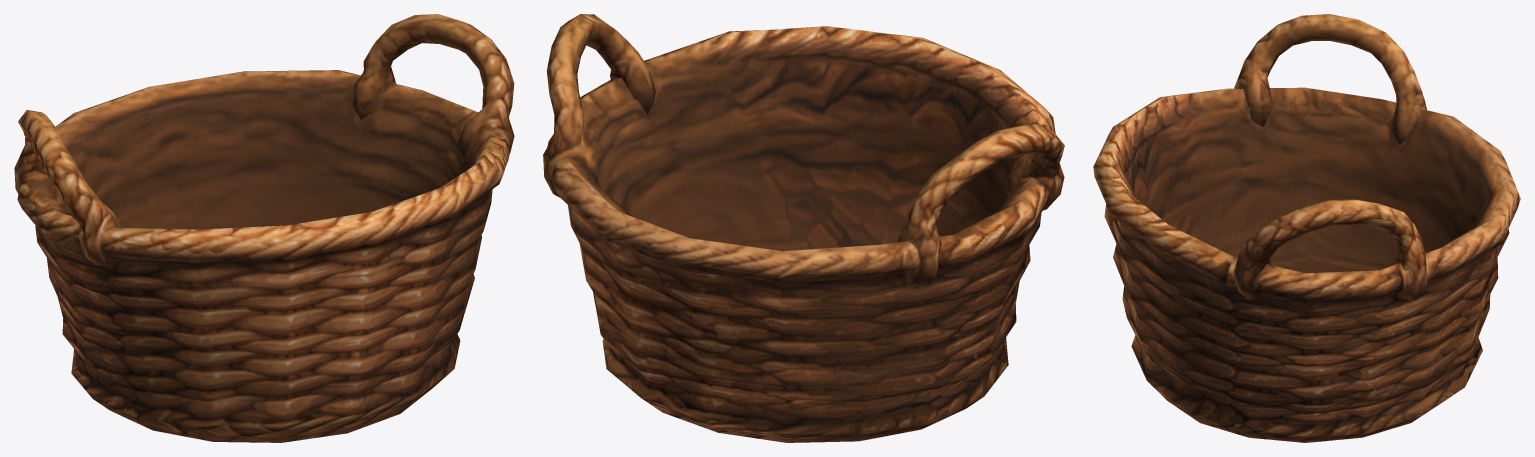
File: basket.fbx
3 views of the same model, side by side, from view 1: azimuth 30°, elevation 25°; view 2: azimuth 150°, elevation 25°; view 3: azimuth 270°, elevation 25° (orthographic). The views are drawn at different scales.
Visible parts, largest first — view 1: basket; view 2: basket; view 3: basket.
Boxes of the visible parts, x1,y1,x2,y2 form: basket: [14, 14, 514, 442]; basket: [543, 14, 1064, 442]; basket: [1093, 14, 1520, 442].
Size of the model in its own units: 41.94 by 25.54 by 37.16.
1 material, 1 textured.
